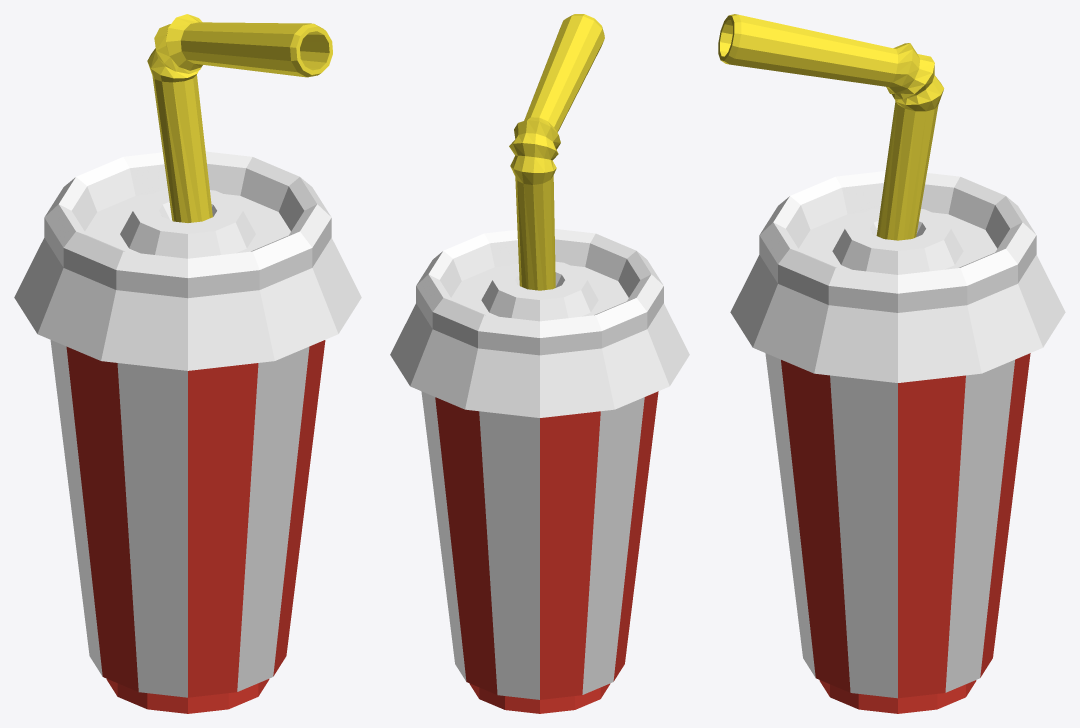
The model's file is group17020863_lev3.011.glb.
The picture shows the model from 3 angles, left to right: view 1: azimuth 30°, elevation 25°; view 2: azimuth 150°, elevation 25°; view 3: azimuth 270°, elevation 25°; orthographic projection. The views are drawn at different scales.
Parts seen in each view (by area): view 1: group17020863_lev3.011; view 2: group17020863_lev3.011; view 3: group17020863_lev3.011.
Part boxes in pixels (<box>): group17020863_lev3.011: <box>14,14,361,713</box>; group17020863_lev3.011: <box>390,14,689,713</box>; group17020863_lev3.011: <box>718,14,1065,713</box>.
Bounding box in the file's own units: 1.85 × 4.14 × 1.91.
